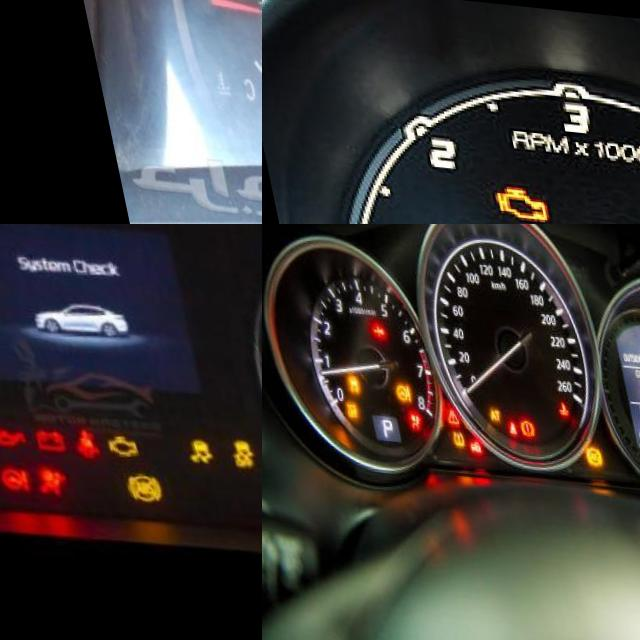Central Warning lamp: (426, 399, 446, 424)
Engine cooling system: (537, 389, 559, 412)
